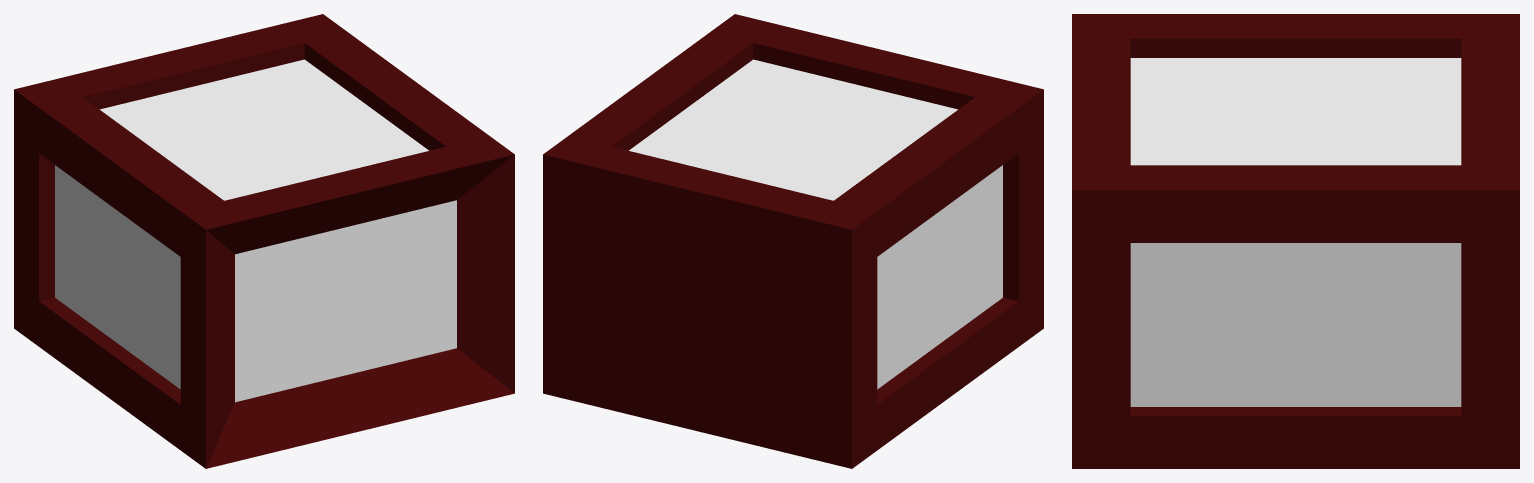
The model's file is Caja.fbx.
The picture shows the model from 3 angles, left to right: view 1: azimuth 30°, elevation 25°; view 2: azimuth 150°, elevation 25°; view 3: azimuth 270°, elevation 25°; orthographic projection. The views are drawn at different scales.
Visible parts, largest first — view 1: Box013; view 2: Box013; view 3: Box013.
Boxes of the visible parts, <box> form: Box013: <box>14,14,514,468</box>; Box013: <box>543,14,1043,468</box>; Box013: <box>1072,14,1519,468</box>.
Size of the model in its own units: 36.65 by 27.09 by 39.41.
